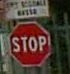stop: (8, 21, 51, 67)
